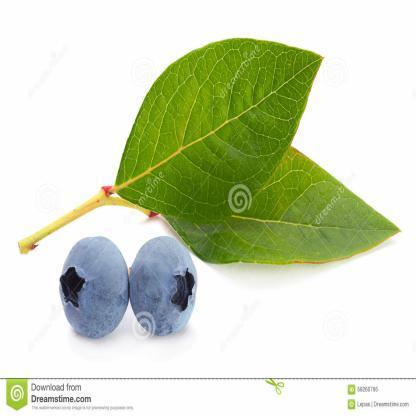Blueberry leaf: (116, 33, 334, 229), (176, 141, 408, 276)
